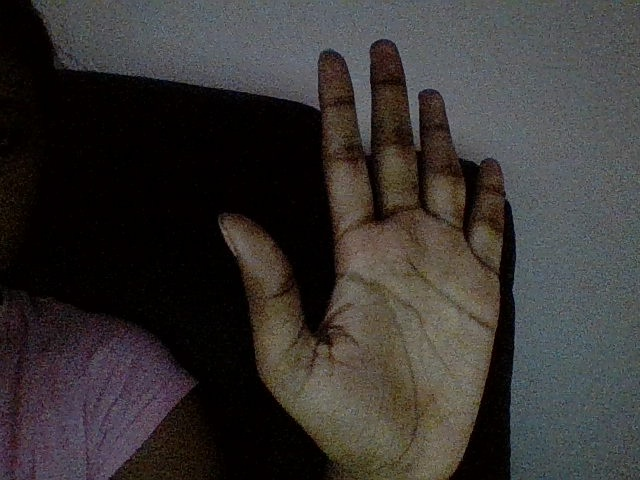Hello: (183, 31, 566, 480)
